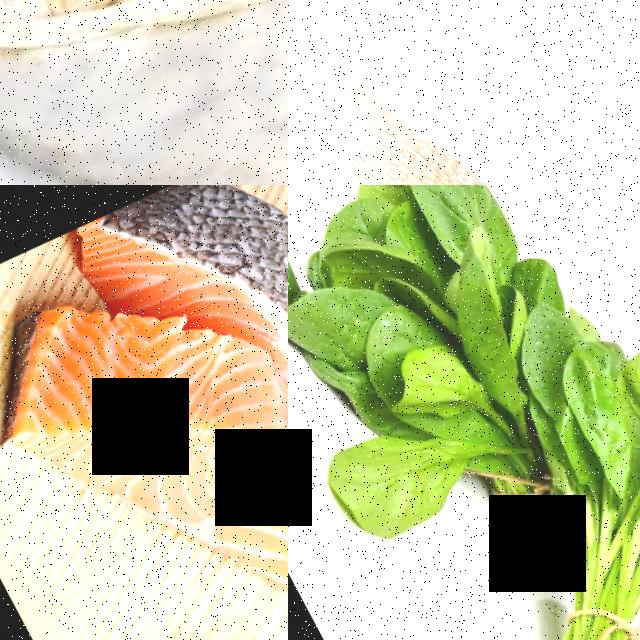salmon: (0, 228, 288, 572), (288, 0, 640, 185), (64, 185, 288, 366), (166, 395, 288, 640)
sea scallops: (47, 0, 128, 23)
spinach: (308, 407, 467, 558), (288, 254, 407, 387), (541, 325, 640, 478), (370, 329, 482, 435), (390, 185, 506, 245), (609, 318, 640, 430)
